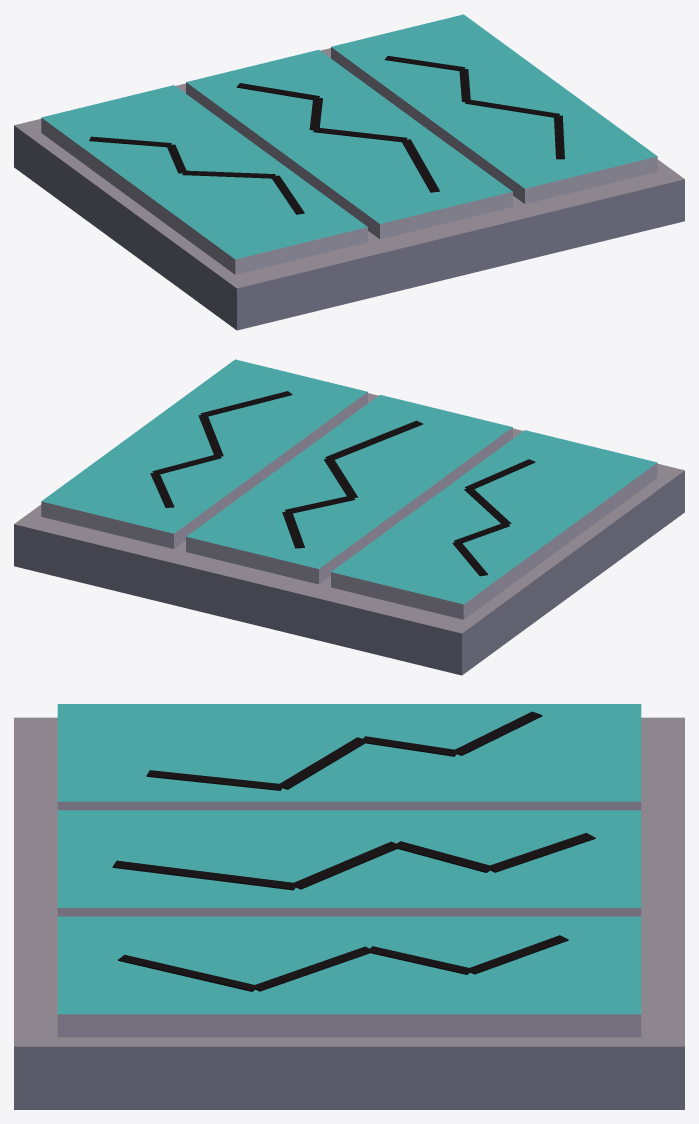
File: star_garden_collapse_platform.obj
3 views of the same model, one above another, from view 1: azimuth 30°, elevation 25°; view 2: azimuth 150°, elevation 25°; view 3: azimuth 270°, elevation 25° (orthographic). The views are drawn at different scales.
Parts seen in each view (by area): view 1: star_garden_collapse_platform; view 2: star_garden_collapse_platform; view 3: star_garden_collapse_platform.
Boxes of the visible parts, bbox=[...] form: star_garden_collapse_platform: bbox=[14, 14, 684, 330]; star_garden_collapse_platform: bbox=[14, 359, 684, 675]; star_garden_collapse_platform: bbox=[14, 704, 684, 1109].
Size of the model in its own units: 11.6 by 1.44 by 10.
